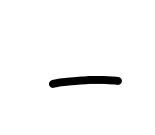minus: (47, 72, 124, 88)
